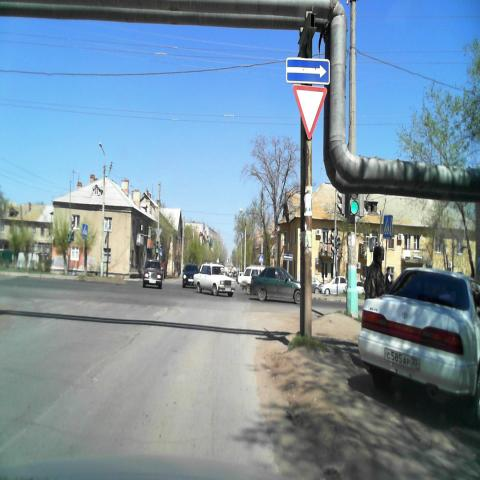5_7_1: (286, 57, 330, 85)
